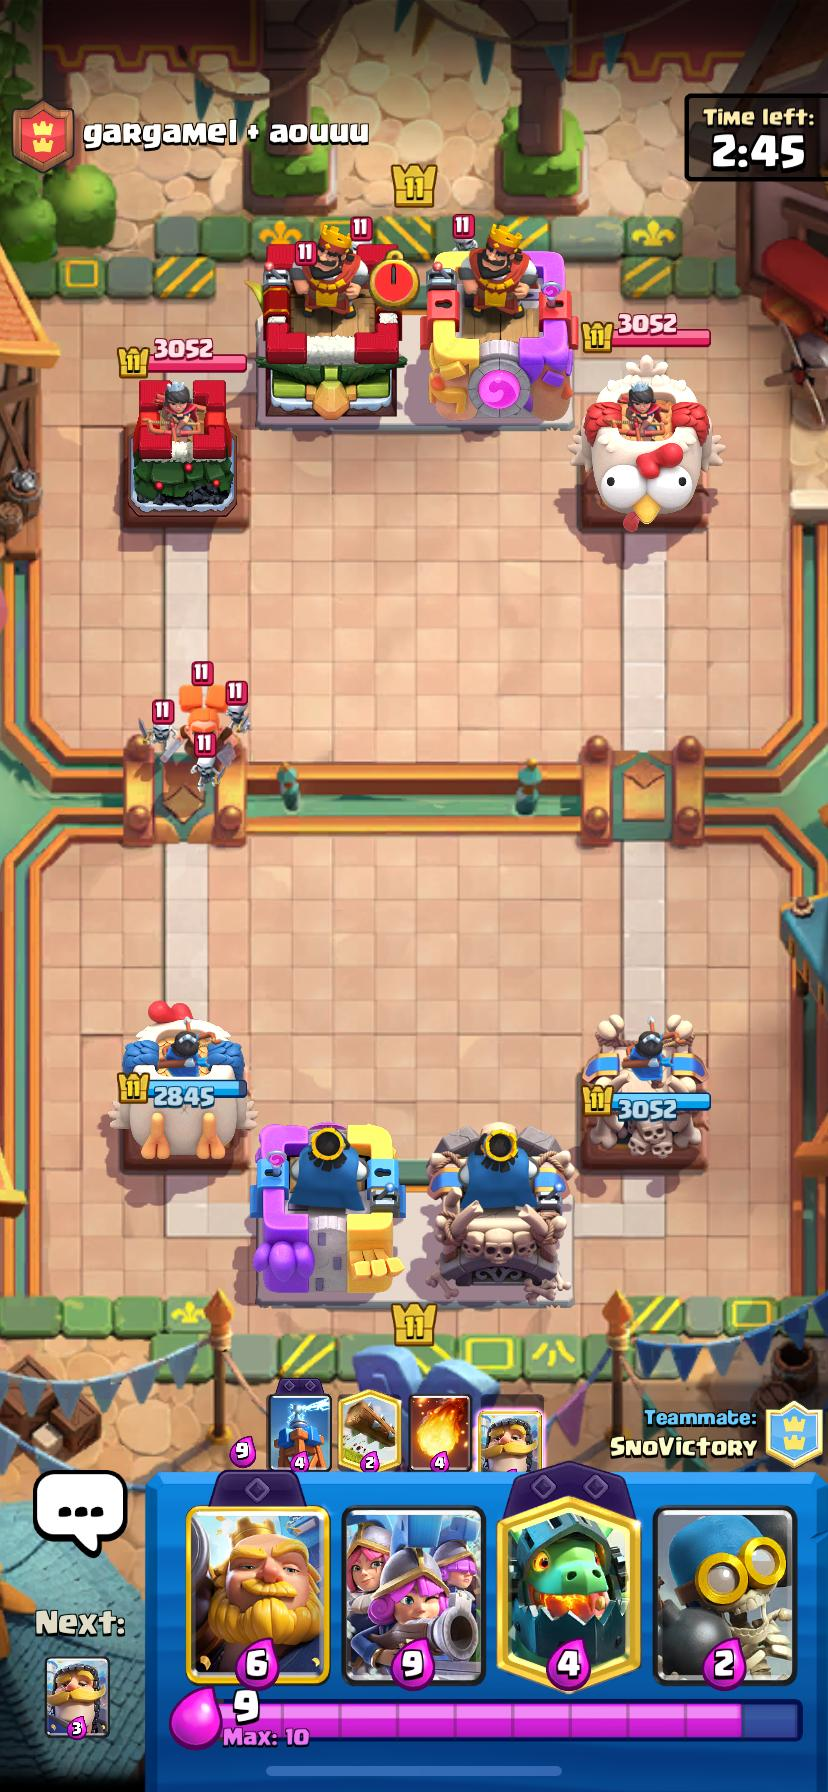EBeserker: (180, 661, 230, 754)
EKingTower: (428, 226, 576, 421), (257, 225, 400, 418)
ELarry: (140, 699, 180, 757), (194, 727, 221, 784), (225, 680, 249, 731)
EnemyPrincessTower: (578, 359, 720, 529), (125, 378, 236, 522)
OwnKingTower: (252, 1123, 403, 1301), (428, 1123, 574, 1305)
OwnPrincessTower: (111, 1016, 254, 1160), (580, 1015, 710, 1162)
